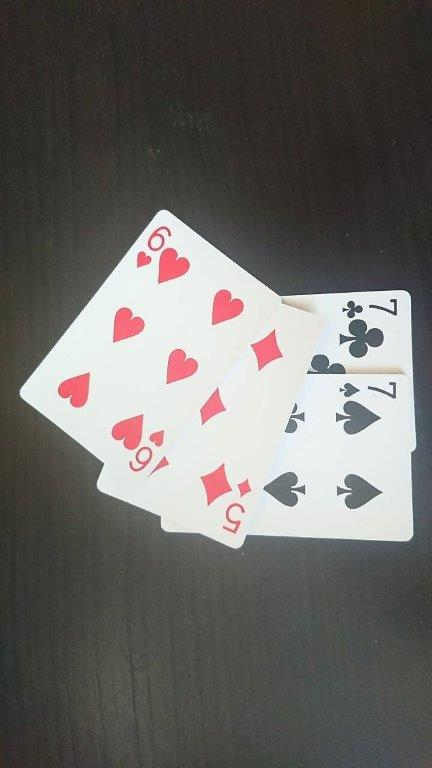5D: (174, 443, 284, 551)
6H: (18, 207, 284, 490)
7C: (322, 287, 414, 372)
7S: (306, 371, 415, 546)
